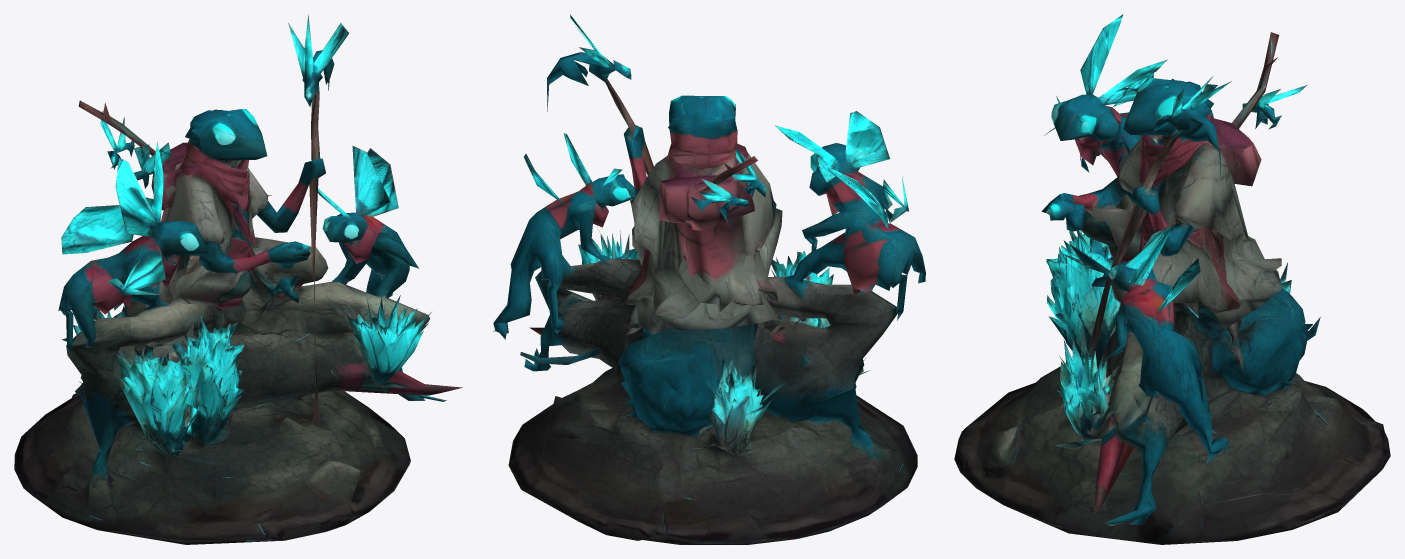
File: oaven_spear_raw.glb
3 views of the same model, side by side, from view 1: azimuth 30°, elevation 25°; view 2: azimuth 150°, elevation 25°; view 3: azimuth 270°, elevation 25° (orthographic). The views are drawn at different scales.
Parts seen in each view (by area): view 1: Mesh_0; view 2: Mesh_0; view 3: Mesh_0.
Part boxes in pixels (x1,y1,x2,y2): Mesh_0: (14, 15, 462, 544); Mesh_0: (493, 14, 925, 544); Mesh_0: (954, 14, 1390, 544).
Bounding box in the file's own units: 1.88 × 1.89 × 1.69.
1 material, 1 textured.
